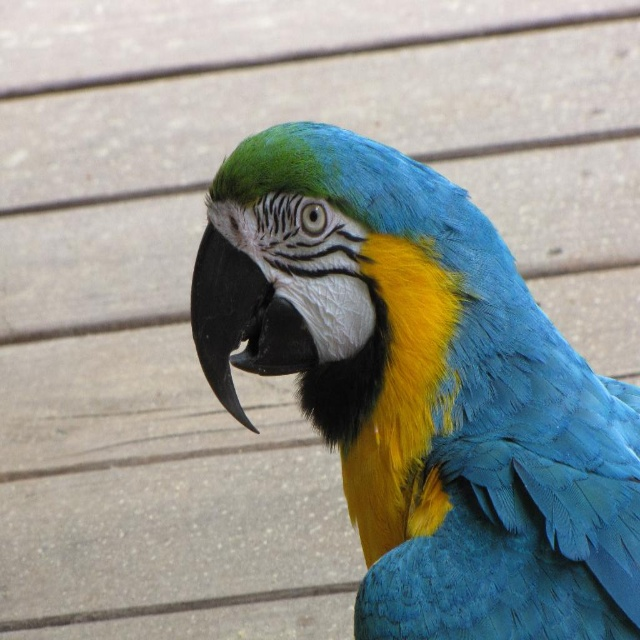Parrot: (190, 114, 640, 639)
